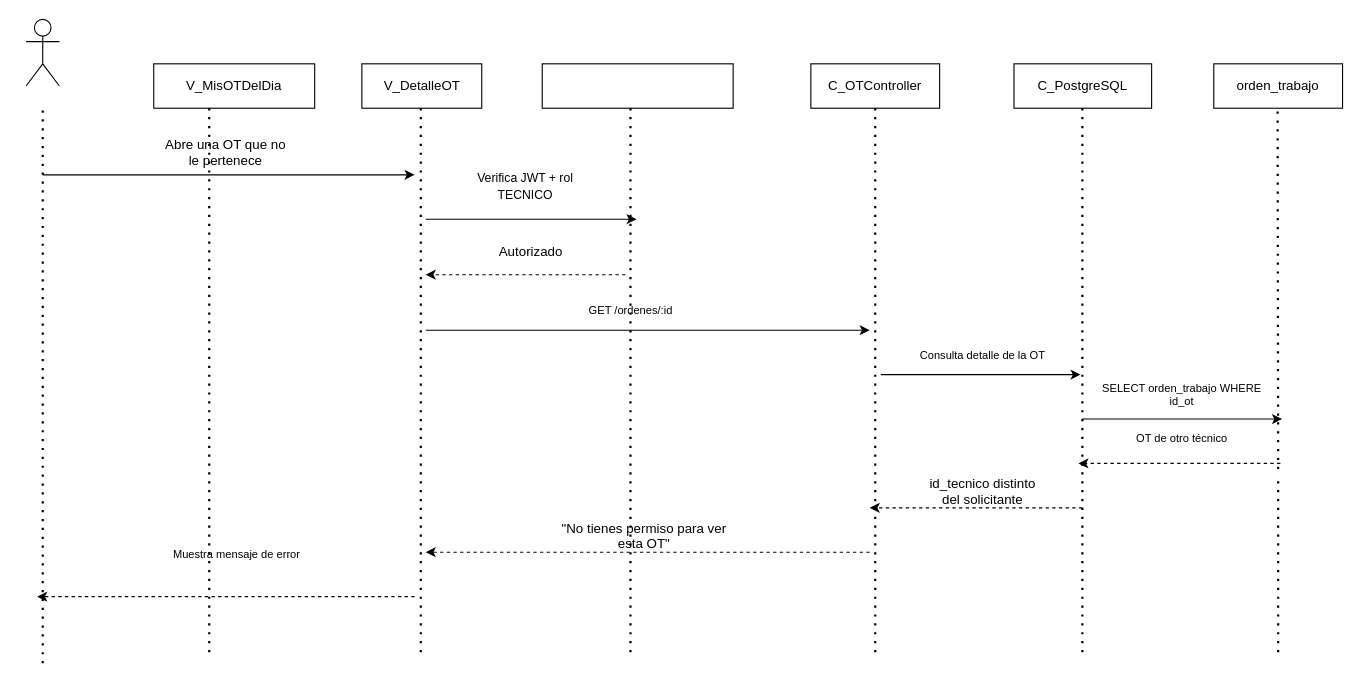
Image size: 1362x685. Some labels were removed from this diagram. Each missing label, with the centre of its shape:
"C_AuthGuard" goes at pixel 637 85.
"Técnico" goes at pixel 42 52.
